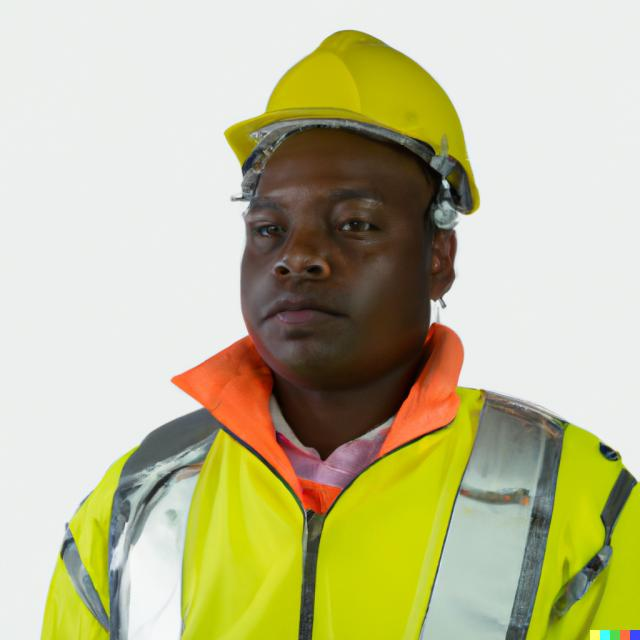Reflective-Jacket: (41, 355, 632, 636)
Safety-Helmet: (223, 32, 484, 209)
